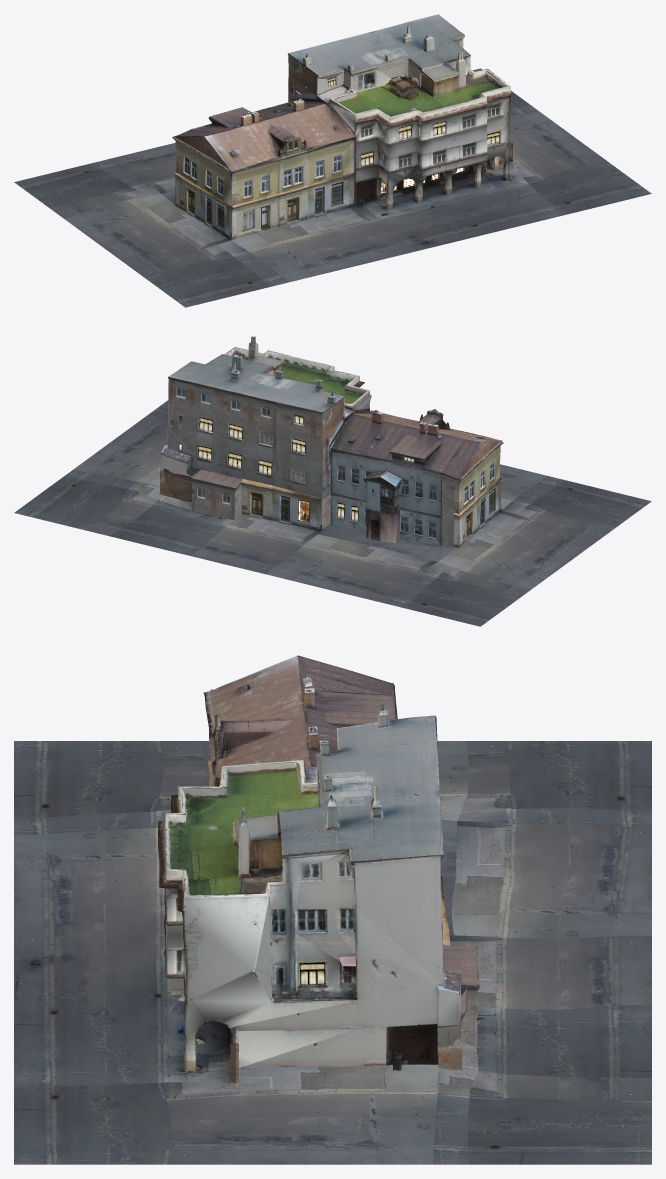
File: city.gltf
The picture shows the model from 3 angles, top to bottom: view 1: azimuth 30°, elevation 25°; view 2: azimuth 150°, elevation 25°; view 3: azimuth 270°, elevation 25°; orthographic projection. The views are drawn at different scales.
Visible parts, largest first — view 1: Buildings; view 2: Buildings; view 3: Buildings.
Part boxes in pixels (<box>): Buildings: <box>14,14,651,307</box>; Buildings: <box>14,336,651,626</box>; Buildings: <box>14,655,651,1164</box>.
Bounding box in the file's own units: 52.8 × 14.81 × 33.6.
5 materials, 4 textured.
